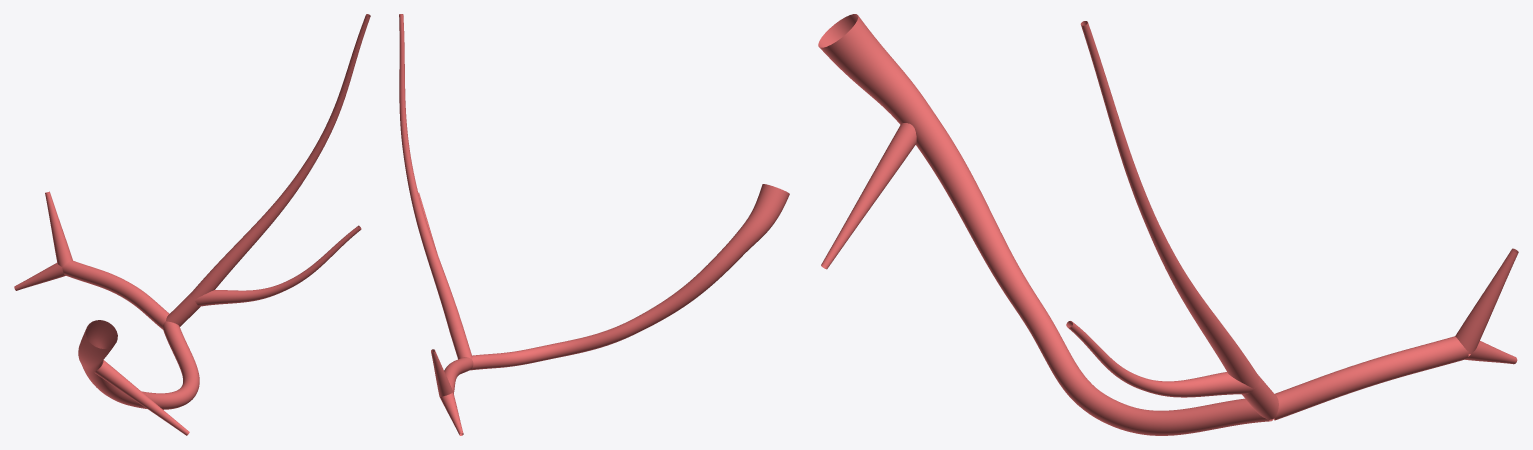
Rendered from Superior_gluteal_artery.l_BezierCurve.398.glb.
3 renders of one model, left to right at view 1: azimuth 30°, elevation 25°; view 2: azimuth 150°, elevation 25°; view 3: azimuth 270°, elevation 25°, orthographic. The views are drawn at different scales.
Visible parts, largest first — view 1: Superior_gluteal_artery.l_BezierCurve.398; view 2: Superior_gluteal_artery.l_BezierCurve.398; view 3: Superior_gluteal_artery.l_BezierCurve.398.
Part boxes in pixels (bbox=[...]): Superior_gluteal_artery.l_BezierCurve.398: bbox=[14, 14, 370, 435]; Superior_gluteal_artery.l_BezierCurve.398: bbox=[399, 14, 789, 435]; Superior_gluteal_artery.l_BezierCurve.398: bbox=[818, 14, 1518, 435].
Size of the model in its own units: 0.0482 by 0.0441 by 0.053.
